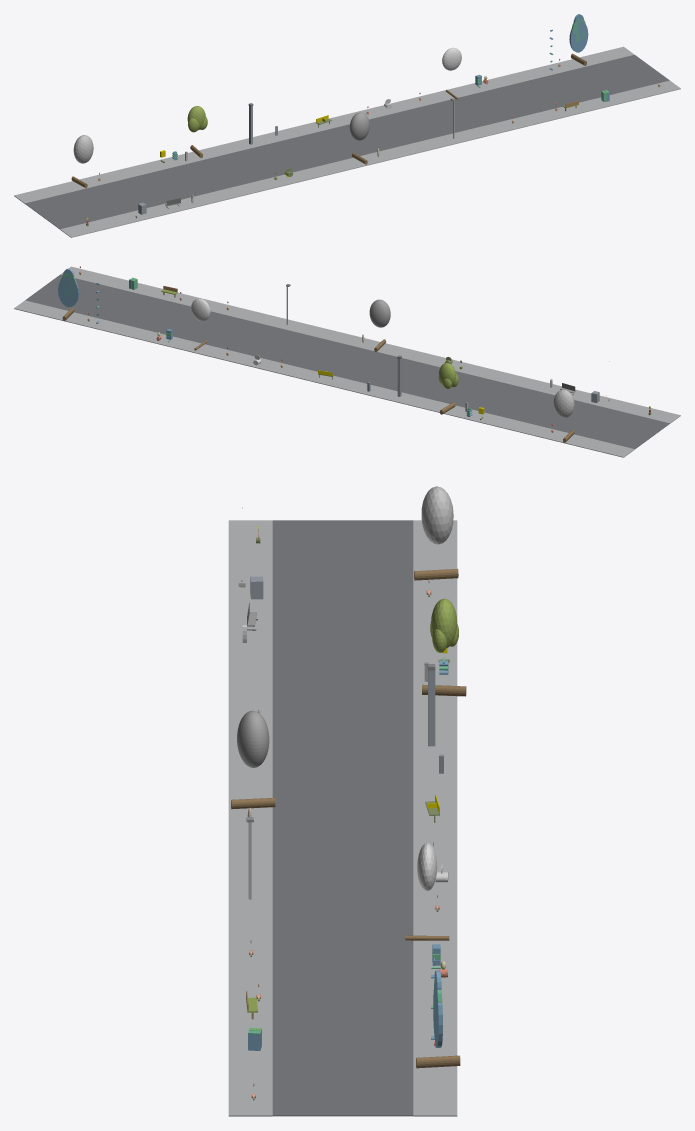
3 renders of one model, top to bottom at view 1: azimuth 30°, elevation 25°; view 2: azimuth 150°, elevation 25°; view 3: azimuth 270°, elevation 25°, orthographic. The views are drawn at different scales.
Visible parts, largest first — view 1: road_slab, sidewalk_left, sidewalk_right, inst_0016, inst_0012, inst_0014, inst_0013, inst_0015; view 2: road_slab, sidewalk_right, sidewalk_left, inst_0016, inst_0012, inst_0014, inst_0013, inst_0015; view 3: road_slab, sidewalk_left, sidewalk_right, inst_0012, inst_0014, inst_0013, inst_0016, inst_0015.
Boxes of the visible parts, <box> form: road_slab: <box>25,54,669,229</box>; sidewalk_left: <box>60,80,680,237</box>; sidewalk_right: <box>14,46,634,203</box>; inst_0016: <box>569,14,588,65</box>; inst_0012: <box>71,135,93,188</box>; inst_0014: <box>349,112,369,164</box>; inst_0013: <box>187,106,207,158</box>; inst_0015: <box>442,47,461,99</box>; road_slab: <box>25,274,669,449</box>; sidewalk_right: <box>14,300,634,457</box>; sidewalk_left: <box>60,266,680,423</box>; inst_0016: <box>58,268,78,321</box>; inst_0012: <box>553,389,574,442</box>; inst_0014: <box>369,299,390,351</box>; inst_0013: <box>438,362,458,414</box>; inst_0015: <box>191,298,210,350</box>; road_slab: <box>272,520,413,1116</box>; sidewalk_left: <box>228,520,272,1116</box>; sidewalk_right: <box>413,520,457,1116</box>; inst_0012: <box>414,486,458,580</box>; inst_0014: <box>231,710,275,809</box>; inst_0013: <box>422,598,466,696</box>; inst_0016: <box>416,970,460,1068</box>; inst_0015: <box>405,843,449,940</box>.
Bounding box in the file's own units: 80 × 6.08 × 13.51.
